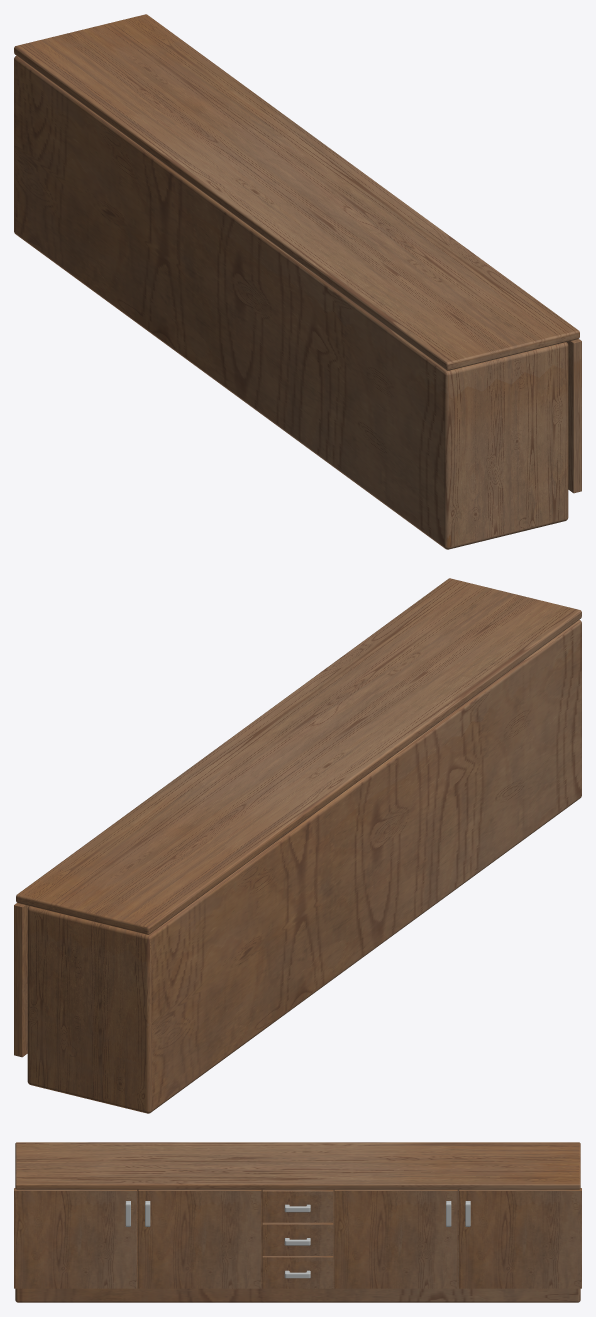
Rendered from Cabinet_Final.fbx.
3 views of the same model, one above another, from view 1: azimuth 30°, elevation 25°; view 2: azimuth 150°, elevation 25°; view 3: azimuth 270°, elevation 25° (orthographic). The views are drawn at different scales.
Parts seen in each view (by area): view 1: Wooden_Cabinet; view 2: Wooden_Cabinet; view 3: Wooden_Cabinet, Handles.
Part boxes in pixels (x1,y1,x2,y2): Wooden_Cabinet: (14,14,581,549); Wooden_Cabinet: (14,578,581,1113); Wooden_Cabinet: (14,1142,581,1302); Handles: (125,1201,470,1278).
Bounding box in the file's own units: 3.77 × 4.71 × 19.76.
Materials: 2 (2 with a texture image).
